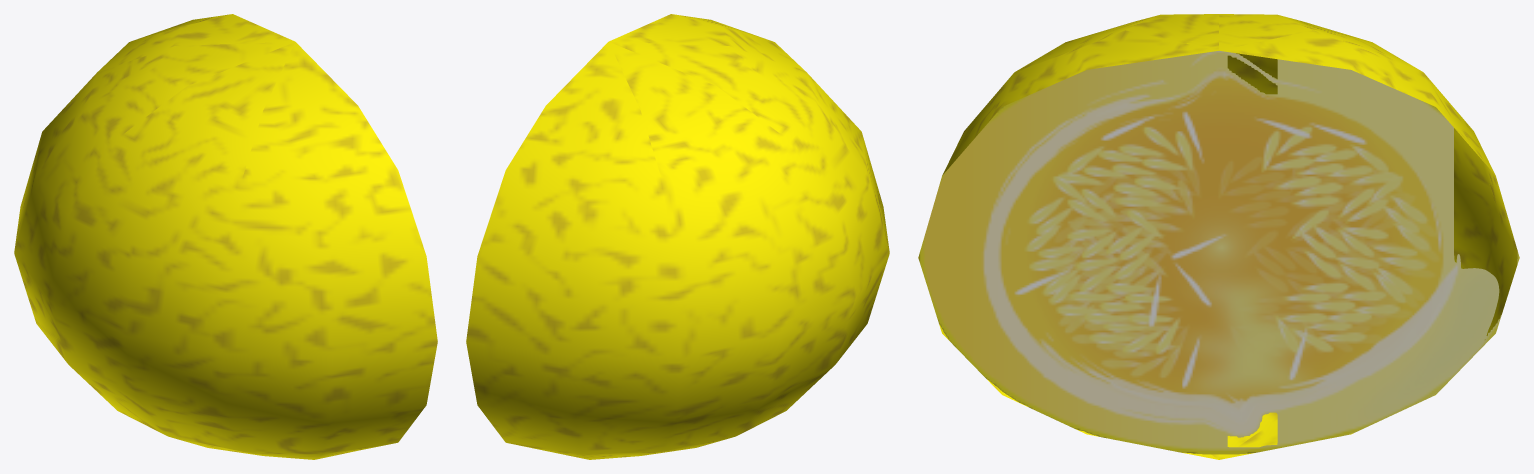
Rendered from melonS.FBX.
3 views of the same model, side by side, from view 1: azimuth 30°, elevation 25°; view 2: azimuth 150°, elevation 25°; view 3: azimuth 270°, elevation 25° (orthographic). The views are drawn at different scales.
Visible parts, largest first — view 1: Melon; view 2: Melon; view 3: Melon.
Boxes of the visible parts, box(x1,y1,x2,y2) form: Melon: box(14, 14, 437, 459); Melon: box(466, 14, 889, 459); Melon: box(918, 14, 1519, 459).
Size of the model in its own units: 8.39 by 12.6 by 16.78.
